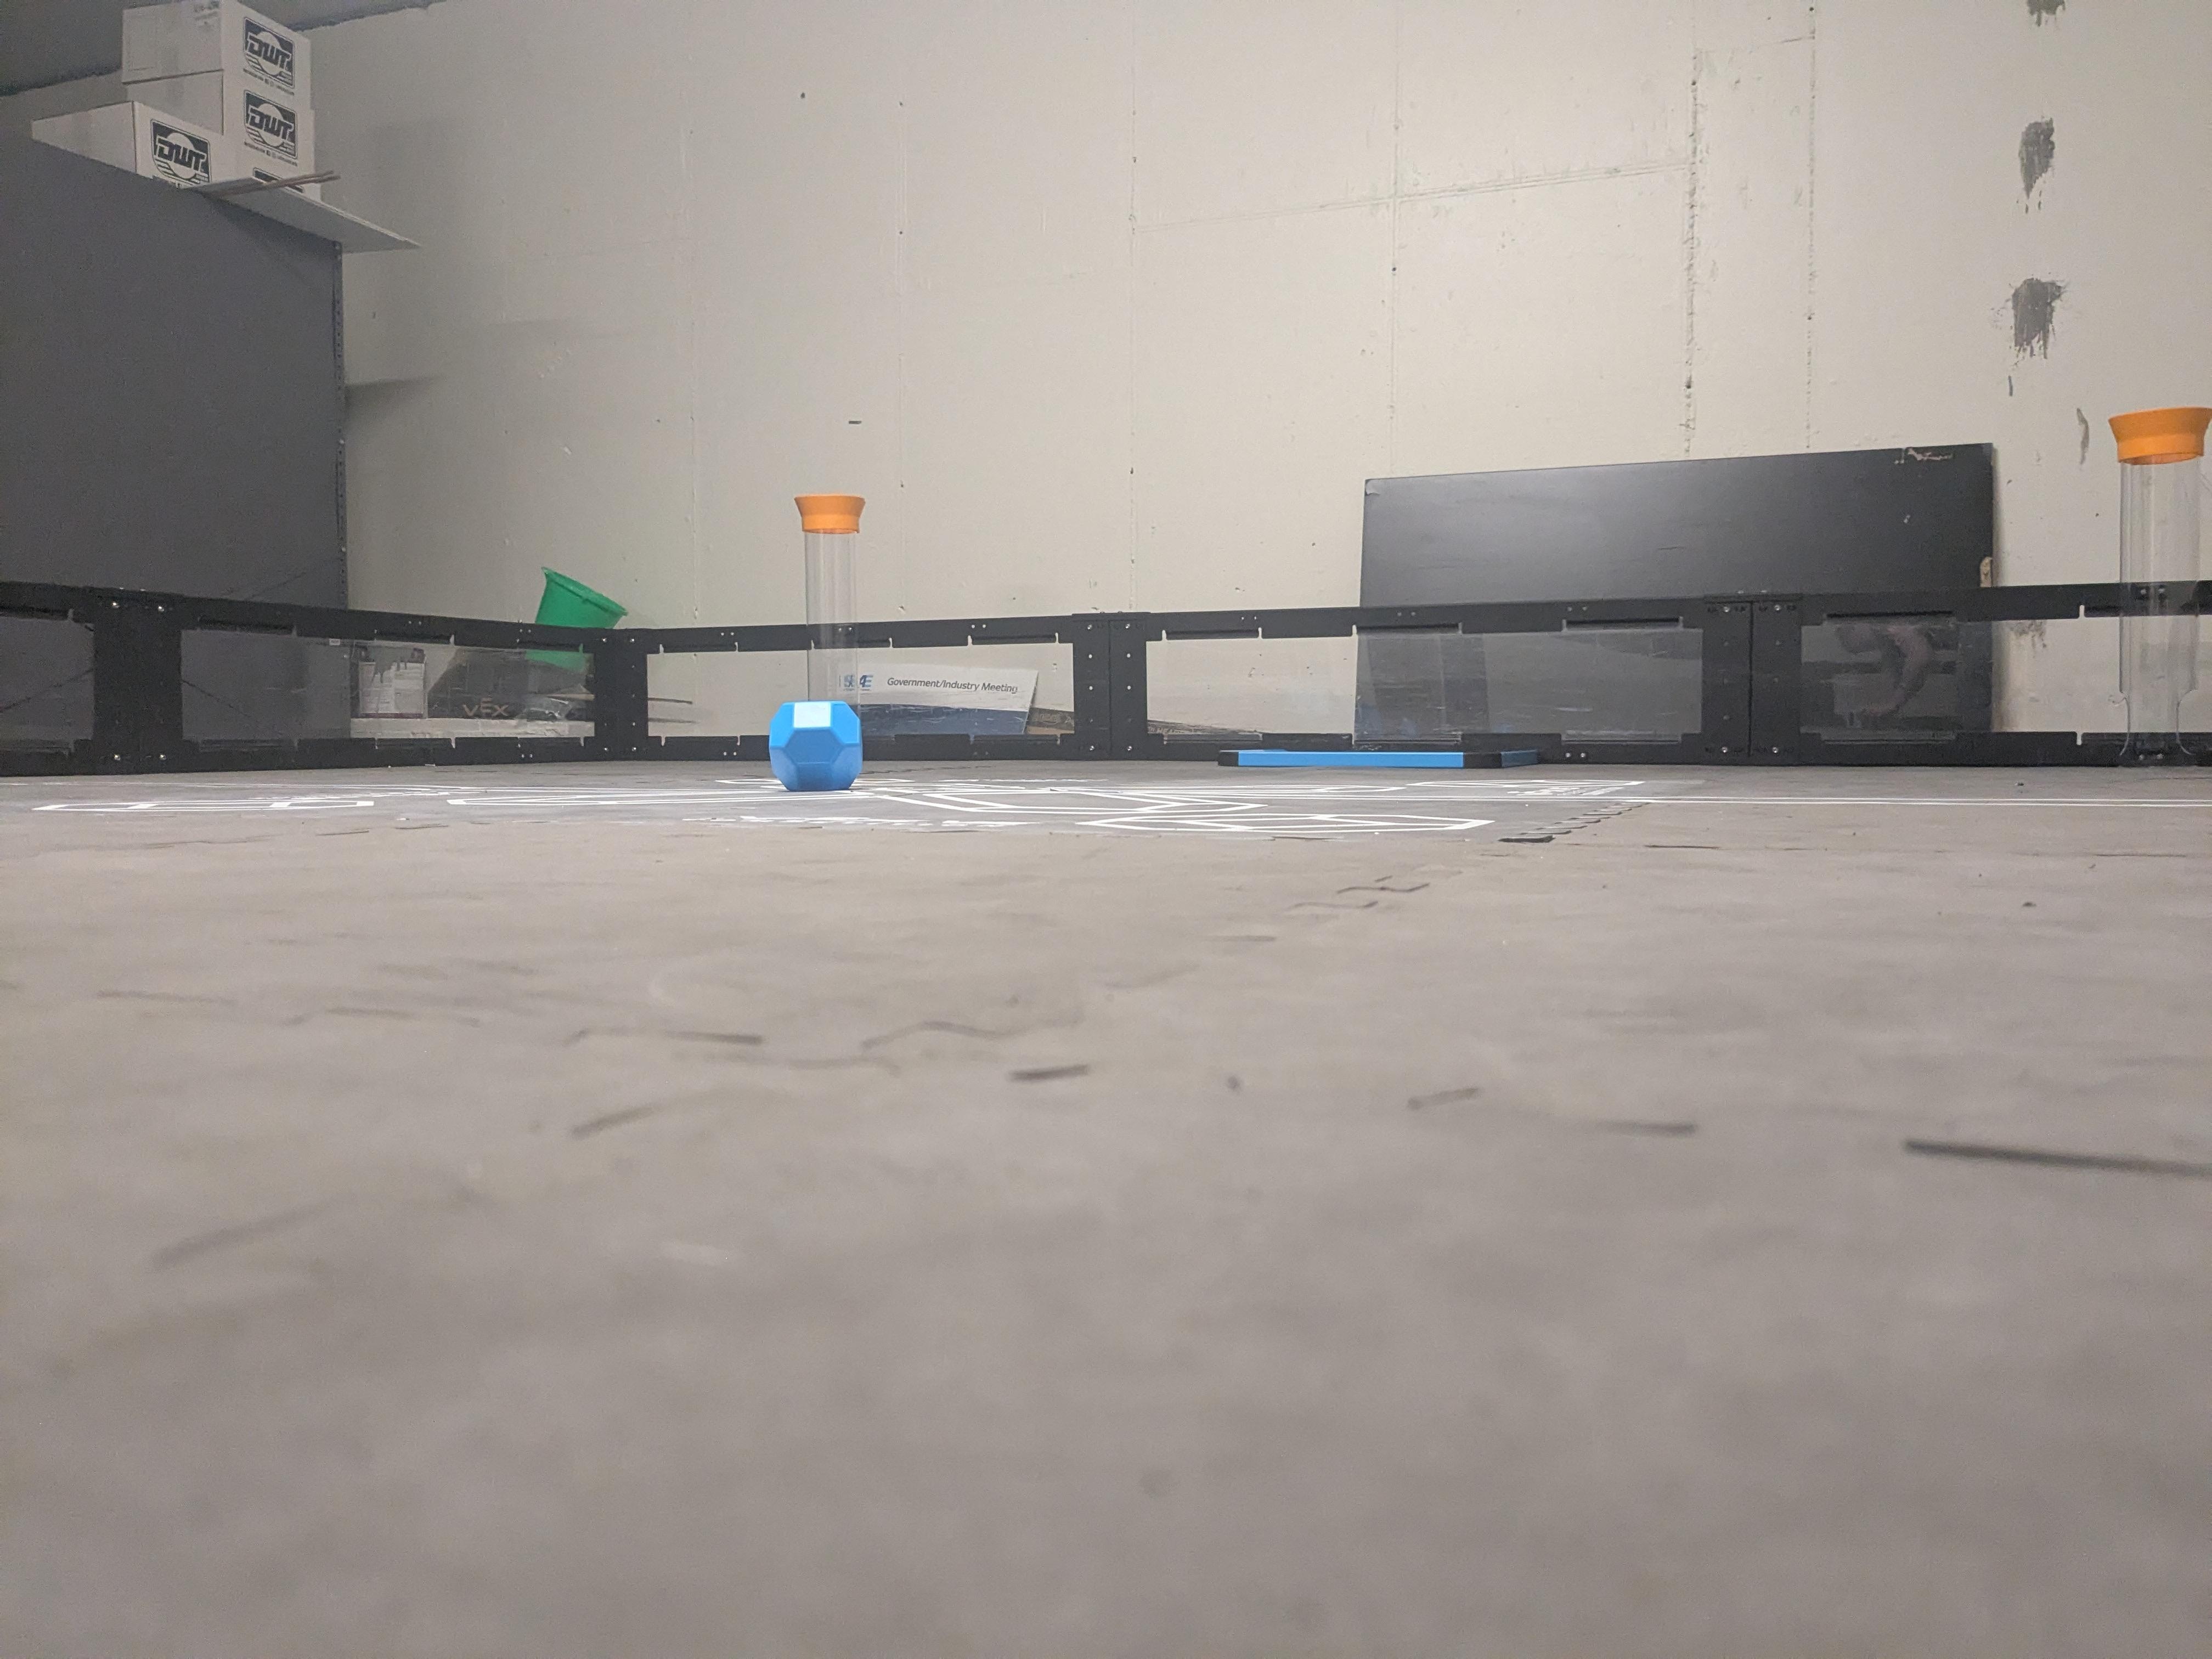Vex-Pieces-BLUE: (766, 702, 864, 793)
